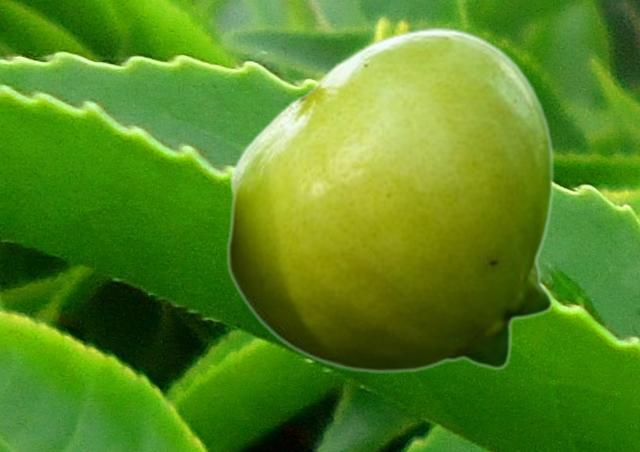guava: (225, 26, 554, 372)
